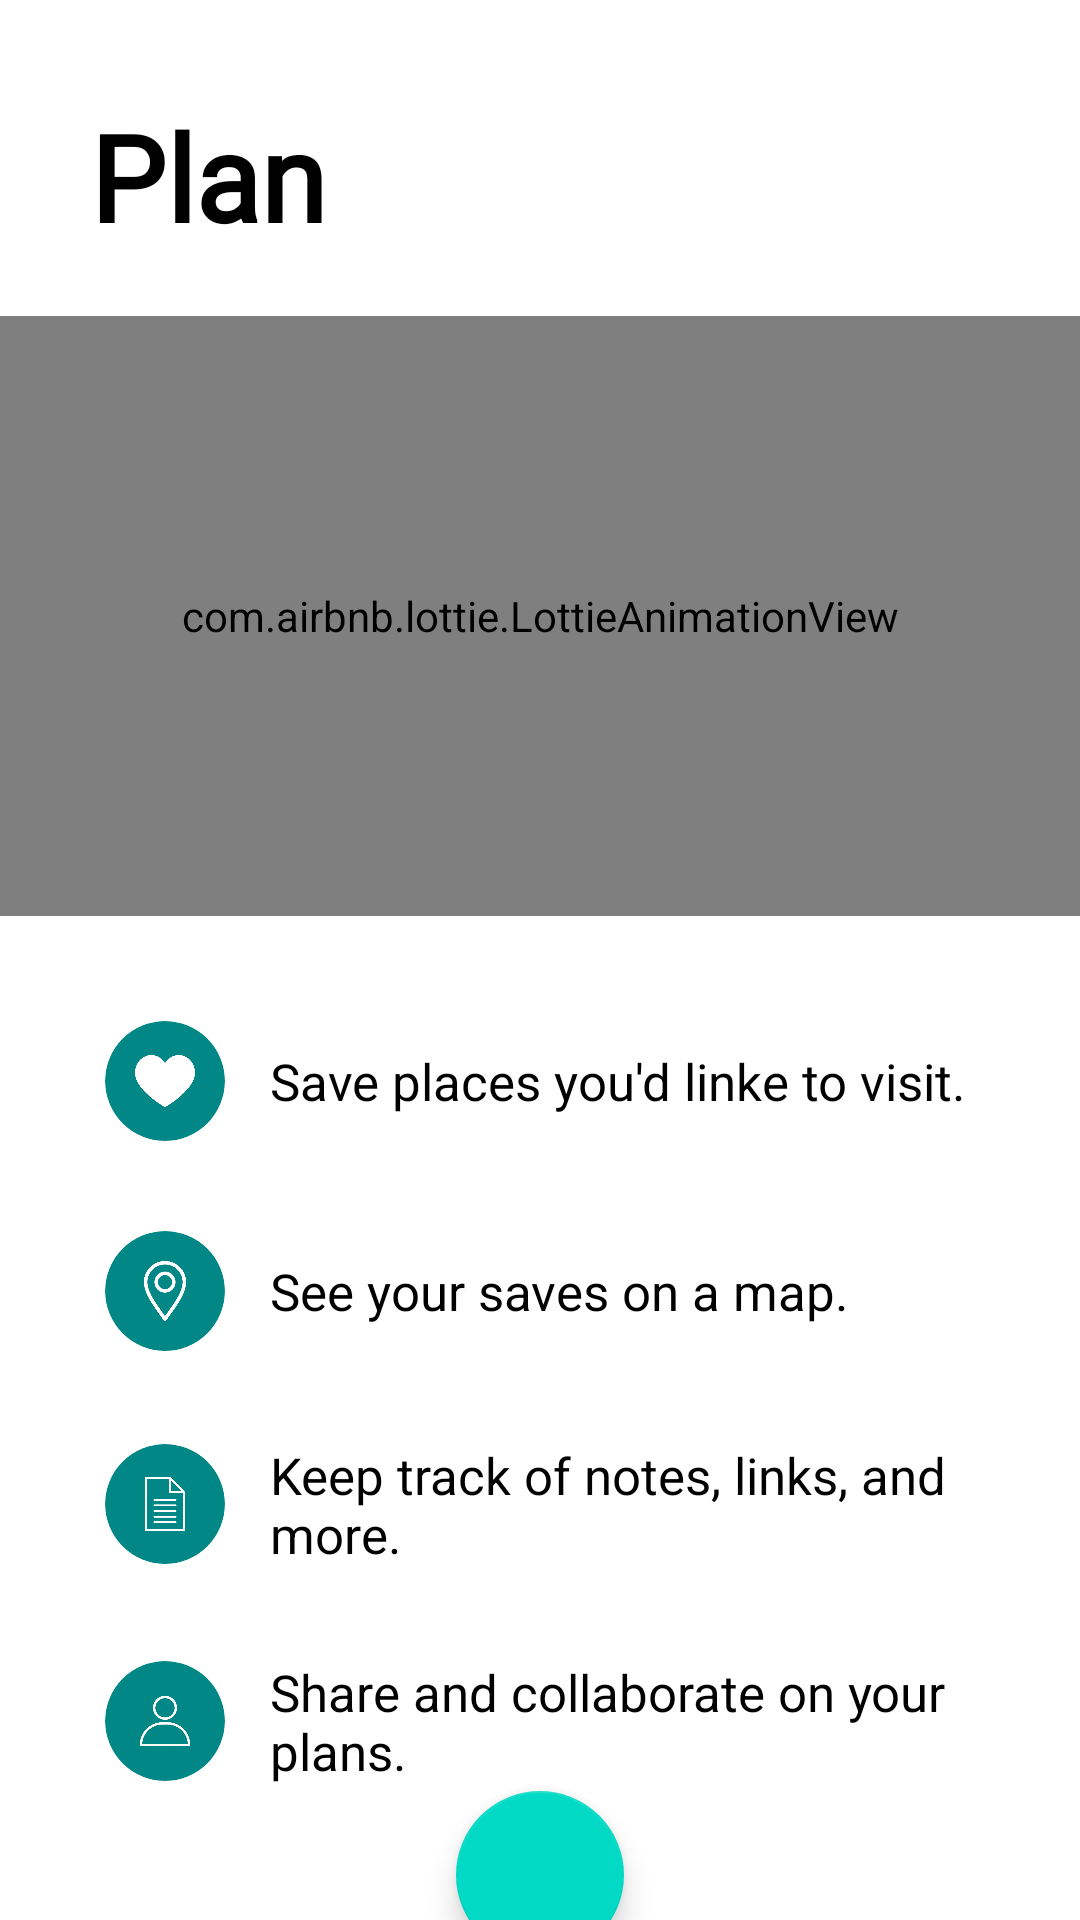

Icons on this 1080w x 1920h Android screen, each with its box as [left=x1, top=y1, right=x2, bottom=y2]:
document: [left=145, top=1477, right=185, bottom=1531]
heart: [left=135, top=1055, right=195, bottom=1107]
locations: [left=144, top=1261, right=186, bottom=1321]
profile: [left=140, top=1696, right=190, bottom=1746]
